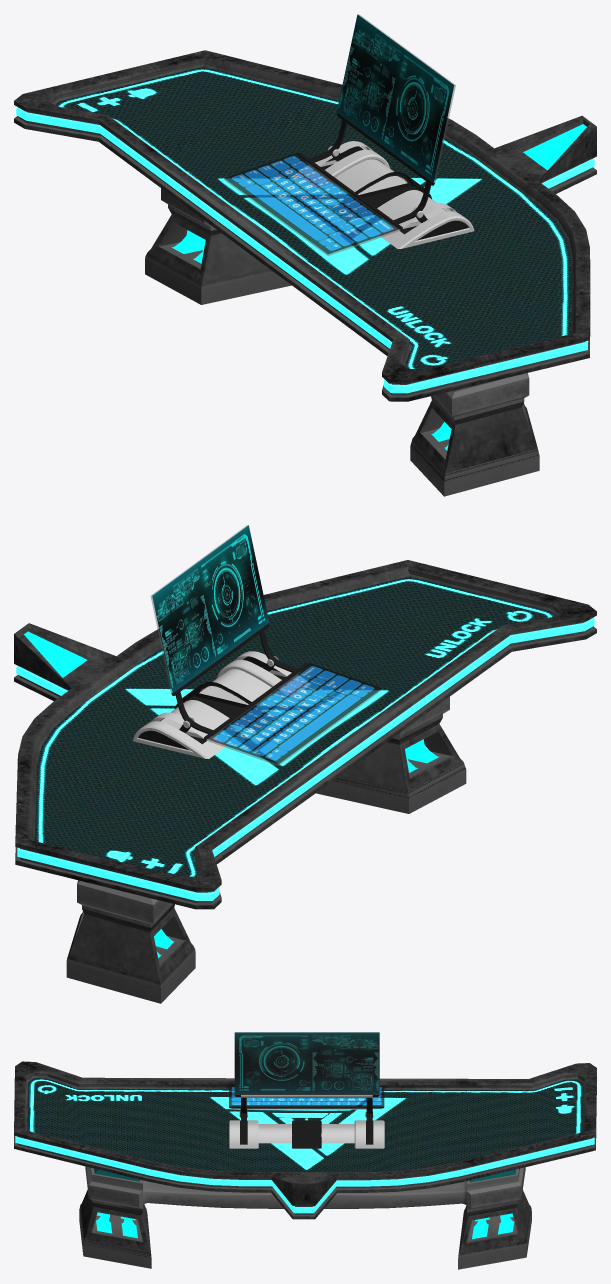
The model's file is Table.fbx.
3 renders of one model, top to bottom at view 1: azimuth 30°, elevation 25°; view 2: azimuth 150°, elevation 25°; view 3: azimuth 270°, elevation 25°, orthographic. The views are drawn at different scales.
Visible parts, largest first — view 1: SM_Tri_Table_00_SM_TableSG9_0.001, SM_Tri_Table_00_SM_TableSG10_0, Circle_metal_2_0.012, Plane_001_digital_displays_0, SM_Tri_Table_00_SM_TableSG10_0.003, SM_Tri_Table_00_SM_TableSG10_0.002, SM_Tri_Table_00_SM_TableSG10_0.001, SM_Tri_Table_00_SM_TableSG9_0, SM_Tri_Table_00_SM_TableSG8_0.002, SM_Tri_Table_00_SM_TableSG14_0.008; view 2: SM_Tri_Table_00_SM_TableSG9_0.001, SM_Tri_Table_00_SM_TableSG10_0, Circle_metal_2_0.012, Plane_001_digital_displays_0, SM_Tri_Table_00_SM_TableSG10_0.002, SM_Tri_Table_00_SM_TableSG10_0.003, SM_Tri_Table_00_SM_TableSG10_0.001, SM_Tri_Table_00_SM_TableSG9_0, SM_Tri_Table_00_SM_TableSG8_0.002, SM_Tri_Table_00_SM_TableSG14_0.008; view 3: SM_Tri_Table_00_SM_TableSG9_0.001, Circle_metal_2_0.012, SM_Tri_Table_00_SM_TableSG10_0, Plane_001_digital_displays_0, SM_Tri_Table_00_SM_TableSG8_0.002, SM_Tri_Table_00_SM_TableSG10_0.001, SM_Tri_Table_00_SM_TableSG9_0, SM_Tri_Table_00_SM_TableSG10_0.002, SM_Tri_Table_00_SM_TableSG10_0.003.
Part boxes in pixels (left/top/right/bottom): SM_Tri_Table_00_SM_TableSG9_0.001: left=55, top=66, right=571, bottom=368; SM_Tri_Table_00_SM_TableSG10_0: left=14, top=50, right=596, bottom=384; Circle_metal_2_0.012: left=224, top=14, right=474, bottom=255; Plane_001_digital_displays_0: left=337, top=14, right=454, bottom=182; SM_Tri_Table_00_SM_TableSG10_0.003: left=410, top=396, right=539, bottom=496; SM_Tri_Table_00_SM_TableSG10_0.002: left=145, top=208, right=291, bottom=304; SM_Tri_Table_00_SM_TableSG10_0.001: left=14, top=116, right=596, bottom=401; SM_Tri_Table_00_SM_TableSG9_0: left=16, top=107, right=594, bottom=393; SM_Tri_Table_00_SM_TableSG8_0.002: left=161, top=188, right=529, bottom=420; SM_Tri_Table_00_SM_TableSG14_0.008: left=523, top=124, right=586, bottom=170; SM_Tri_Table_00_SM_TableSG9_0.001: left=34, top=576, right=555, bottom=876; SM_Tri_Table_00_SM_TableSG10_0: left=14, top=560, right=596, bottom=892; Circle_metal_2_0.012: left=132, top=525, right=381, bottom=765; Plane_001_digital_displays_0: left=152, top=525, right=269, bottom=692; SM_Tri_Table_00_SM_TableSG10_0.002: left=66, top=904, right=195, bottom=1003; SM_Tri_Table_00_SM_TableSG10_0.003: left=316, top=717, right=466, bottom=813; SM_Tri_Table_00_SM_TableSG10_0.001: left=14, top=626, right=596, bottom=909; SM_Tri_Table_00_SM_TableSG9_0: left=16, top=618, right=594, bottom=900; SM_Tri_Table_00_SM_TableSG8_0.002: left=77, top=697, right=449, bottom=927; SM_Tri_Table_00_SM_TableSG14_0.008: left=24, top=631, right=87, bottom=677; SM_Tri_Table_00_SM_TableSG9_0.001: left=27, top=1078, right=583, bottom=1172; Circle_metal_2_0.012: left=229, top=1032, right=384, bottom=1148; SM_Tri_Table_00_SM_TableSG10_0: left=14, top=1061, right=596, bottom=1206; Plane_001_digital_displays_0: left=234, top=1032, right=379, bottom=1093; SM_Tri_Table_00_SM_TableSG8_0.002: left=85, top=1166, right=525, bottom=1212; SM_Tri_Table_00_SM_TableSG10_0.001: left=14, top=1082, right=596, bottom=1219; SM_Tri_Table_00_SM_TableSG9_0: left=15, top=1136, right=594, bottom=1213; SM_Tri_Table_00_SM_TableSG10_0.002: left=458, top=1190, right=531, bottom=1269; SM_Tri_Table_00_SM_TableSG10_0.003: left=79, top=1190, right=151, bottom=1268.
Bounding box in the file's own units: 508 × 384 × 883.
Materials: 9 (5 with a texture image).
